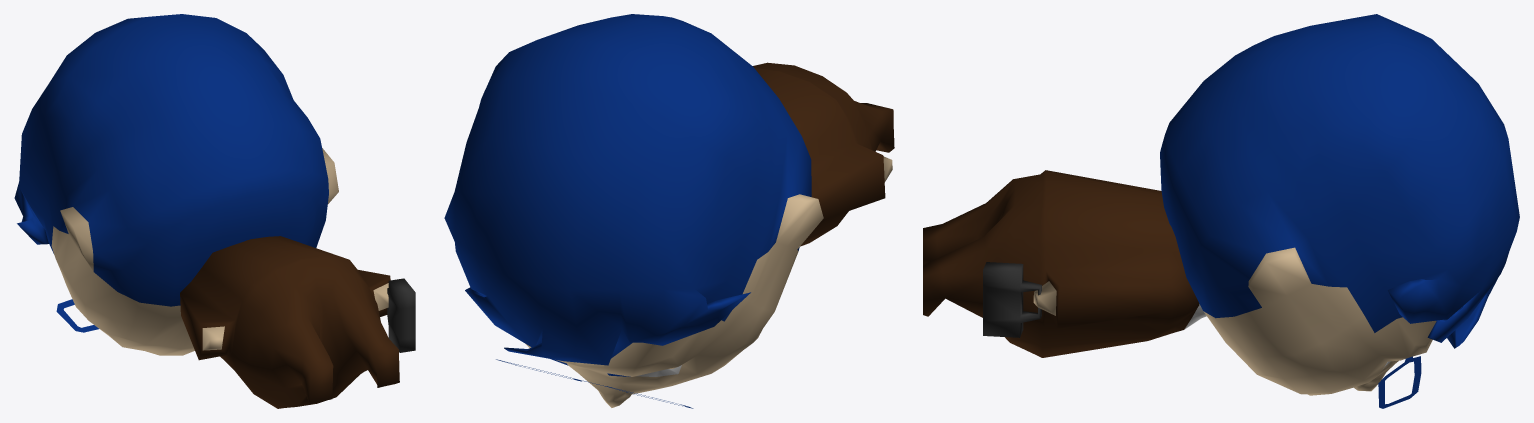
File: salaryman.fbx
3 renders of one model, left to right at view 1: azimuth 30°, elevation 25°; view 2: azimuth 150°, elevation 25°; view 3: azimuth 270°, elevation 25°, orthographic. The views are drawn at different scales.
Parts seen in each view (by area): view 1: Cube_007; view 2: Cube_007; view 3: Cube_007.
Boxes of the visible parts, <box> form: Cube_007: <box>14,14,415,408</box>; Cube_007: <box>444,14,894,408</box>; Cube_007: <box>923,14,1519,408</box>.
Size of the model in its own units: 1.67 by 1.93 by 2.91.
